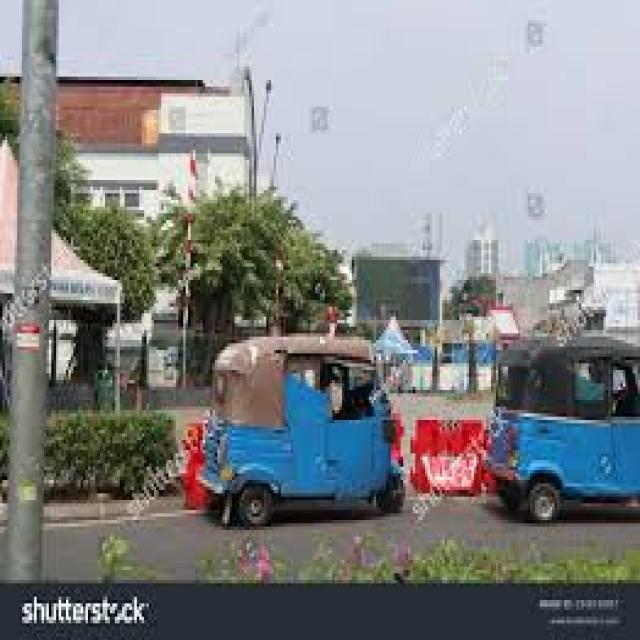bus: (368, 178, 537, 471)
person: (14, 355, 82, 591)
